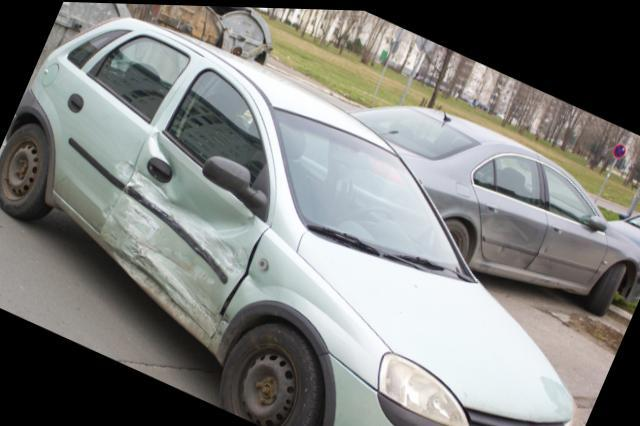dent: (98, 131, 251, 308), (113, 253, 155, 290), (113, 162, 133, 192)
